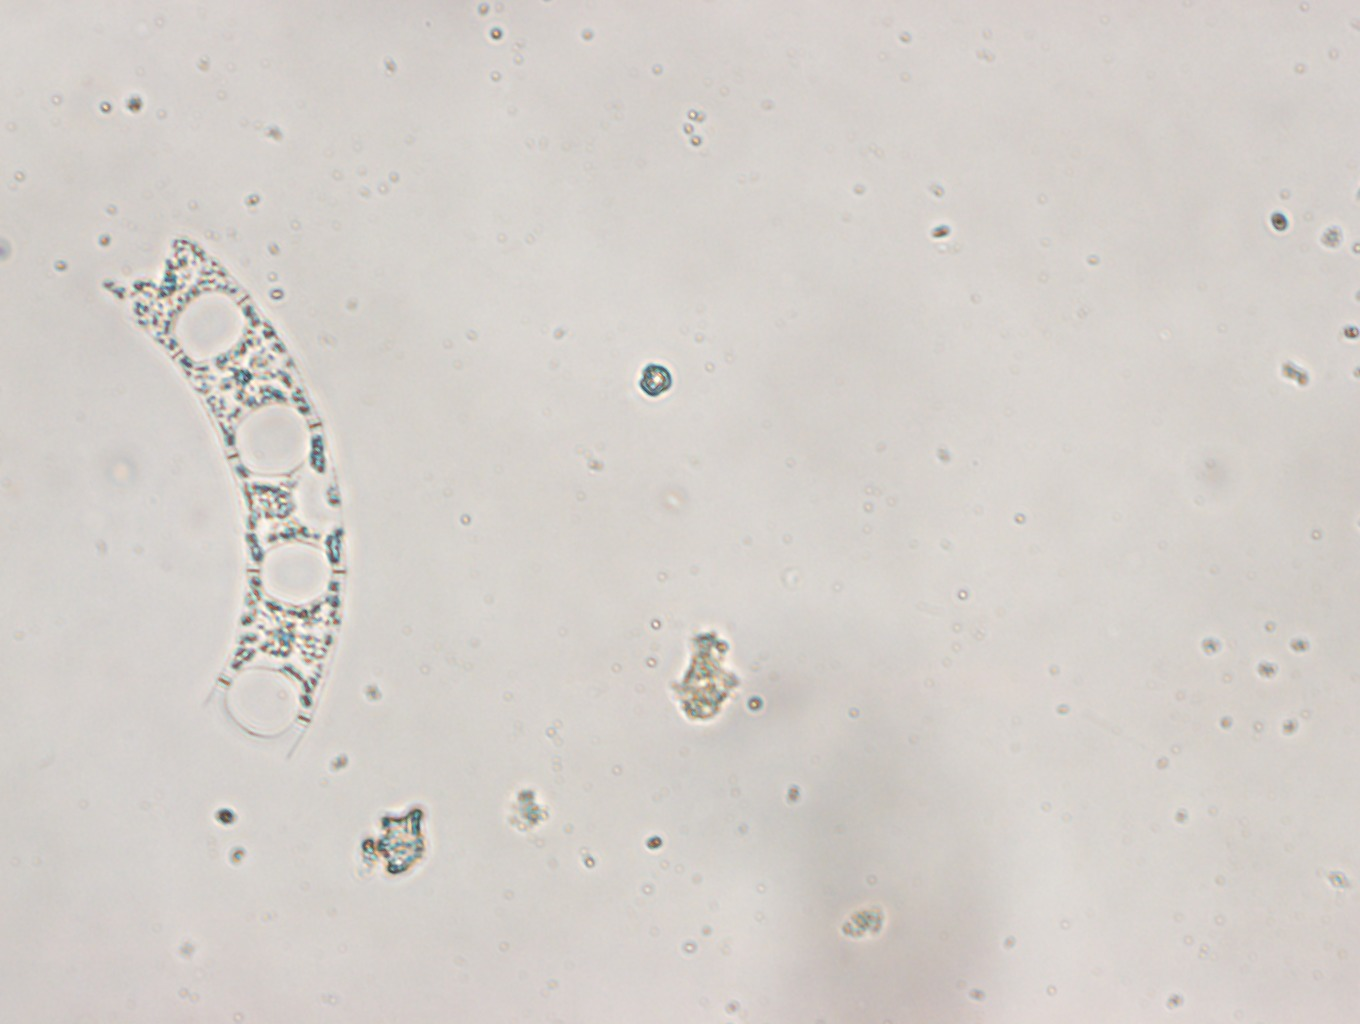eucampia: (100, 239, 346, 762)
